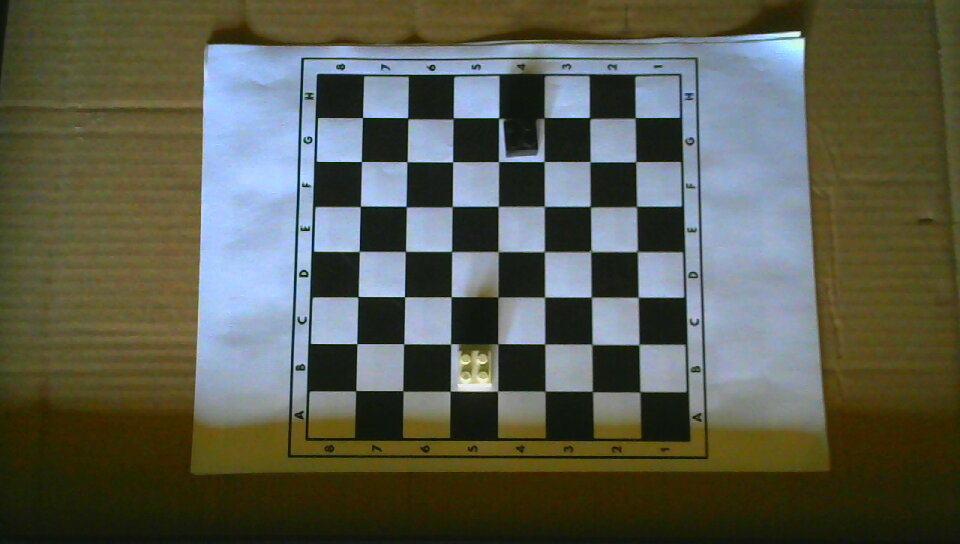bp: (501, 117, 539, 158)
wp: (456, 347, 491, 387)
